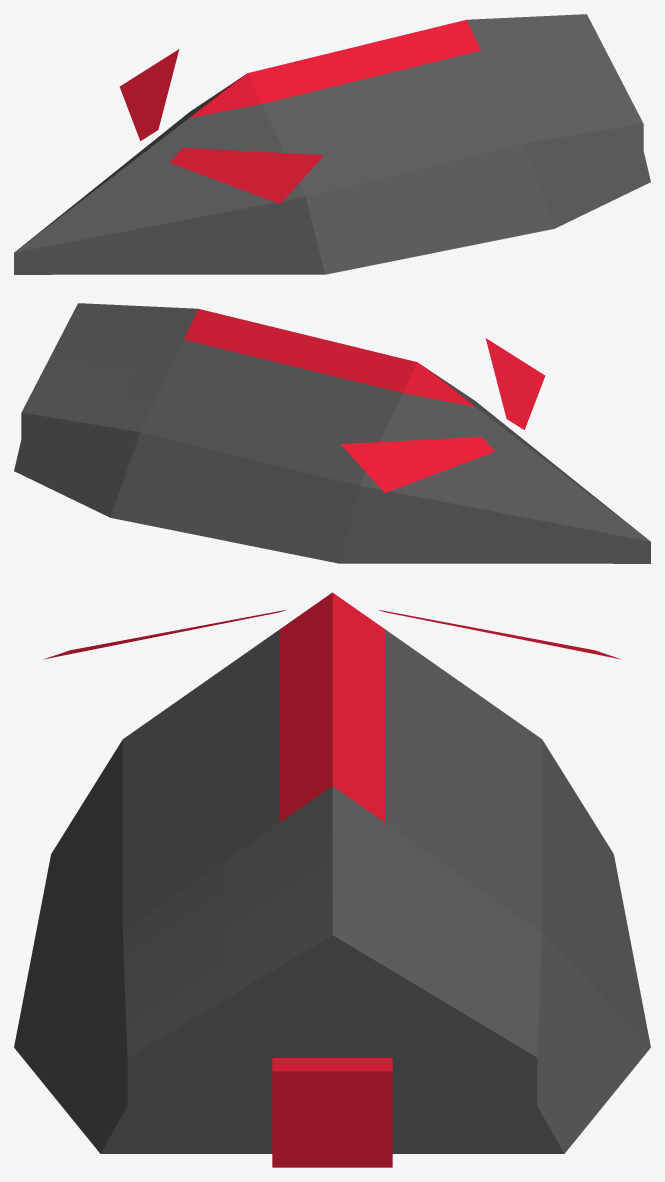
Rendered from Rat.fbx.
3 views of the same model, one above another, from view 1: azimuth 30°, elevation 25°; view 2: azimuth 150°, elevation 25°; view 3: azimuth 270°, elevation 25° (orthographic). The views are drawn at different scales.
Visible parts, largest first — view 1: Rat; view 2: Rat; view 3: Rat.
Part boxes in pixels (left/top/right/bottom): Rat: left=14, top=14, right=650, bottom=274; Rat: left=14, top=303, right=650, bottom=563; Rat: left=14, top=592, right=650, bottom=1167.
Size of the model in its own units: 504 by 118 by 261.
